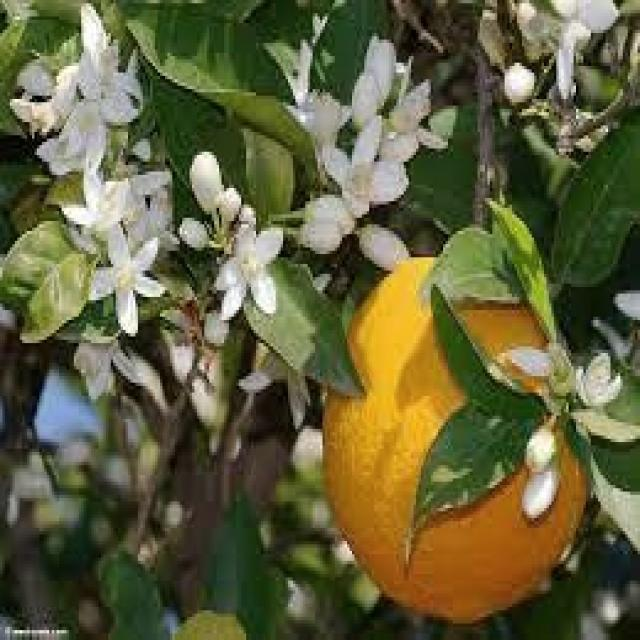Bunga: (88, 221, 160, 337), (68, 3, 140, 119), (325, 116, 406, 214), (219, 228, 286, 324), (56, 158, 130, 238), (568, 347, 620, 412), (58, 99, 104, 165), (298, 86, 347, 145), (7, 89, 59, 139), (517, 462, 564, 514), (357, 224, 409, 270), (300, 195, 350, 238), (192, 152, 224, 218), (367, 40, 399, 102), (354, 70, 384, 136), (497, 60, 534, 106), (293, 225, 340, 258), (522, 426, 556, 468), (177, 218, 207, 250), (222, 188, 238, 228)
Jeruk Sudah Matang: (322, 257, 586, 607)
